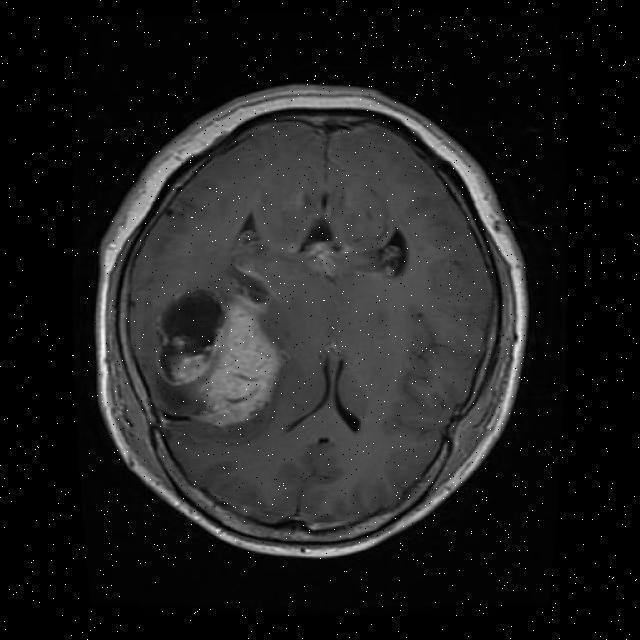Meningioma: (159, 271, 281, 426)
